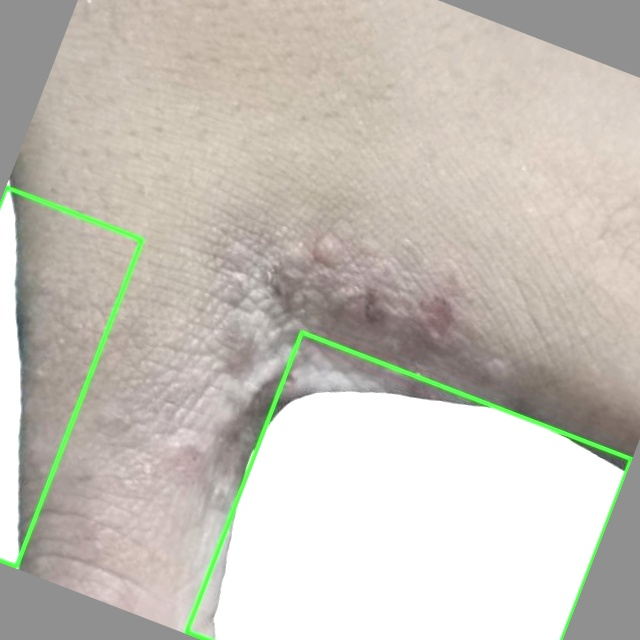Scabies: (185, 333, 631, 639)
